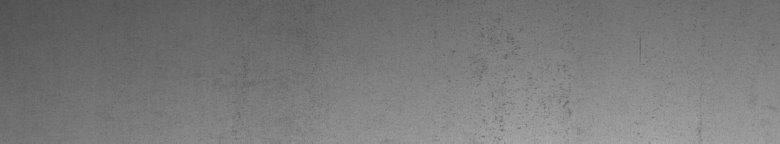ib: (484, 36, 571, 127)
